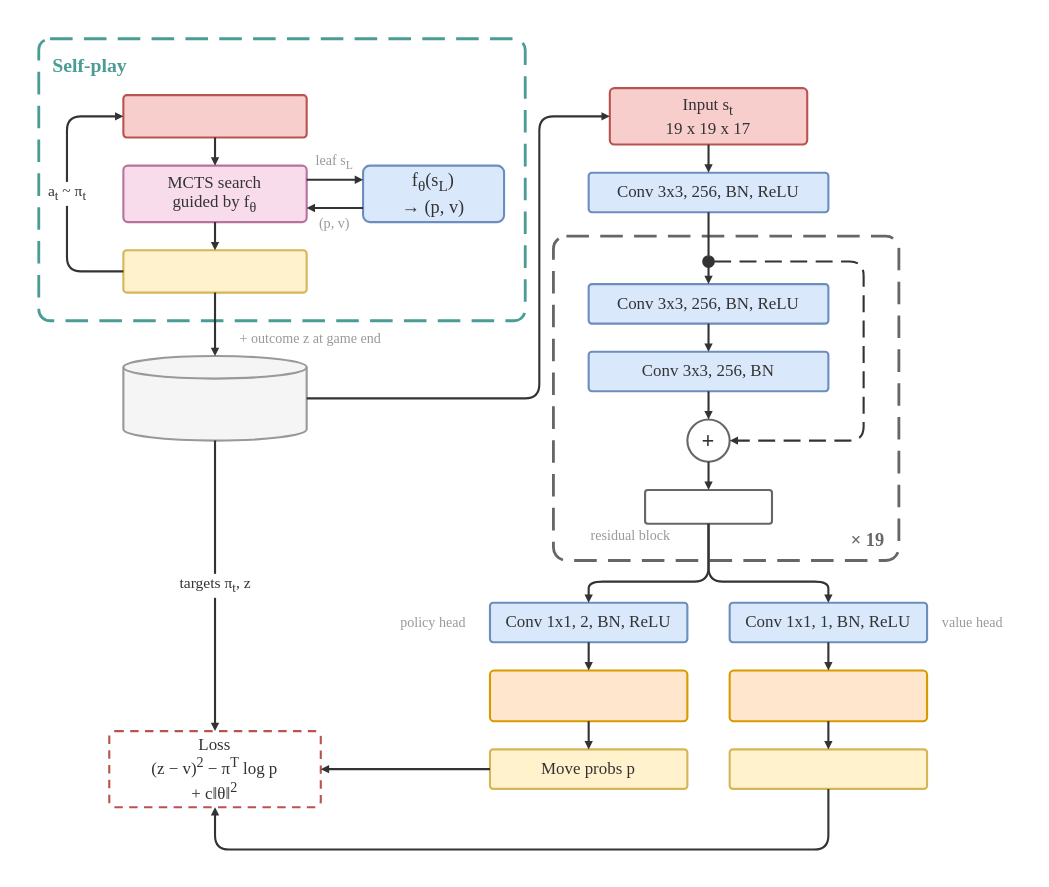
This 1049x887 diagram has some shape labels left out. The centre of each missing label's shape, as x and y in pixels:
"FC 256, ReLU FC 1, tanh" goes at (827,695).
"FC, softmax" goes at (588,695).
"Game state s t" goes at (214,115).
"ReLU" goes at (707,506).
"Replay buffer (s t , π t , z)" goes at (214,397).
"Value v" goes at (827,768).
"π t (visit counts)" goes at (214,271).
